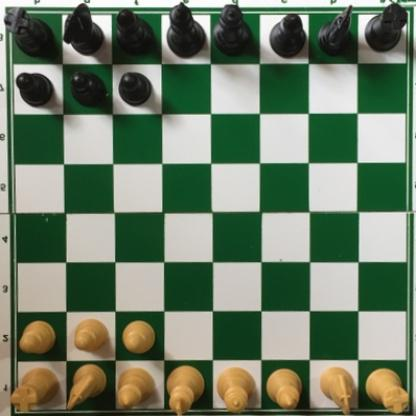black-bishop: (115, 8, 155, 57), (270, 13, 309, 57)
black-king: (165, 1, 207, 57)
black-knight: (61, 1, 103, 57), (317, 3, 359, 56)
black-pawn: (69, 67, 107, 108), (15, 69, 57, 106), (117, 68, 154, 106)
black-queen: (212, 3, 251, 60)
black-rook: (4, 2, 55, 55), (364, 2, 411, 52)
white-bishop: (264, 365, 302, 416), (115, 364, 156, 409)
white-king: (167, 364, 205, 416)
white-knight: (67, 361, 109, 411), (320, 367, 360, 416)
white-pawn: (19, 318, 57, 351), (74, 317, 110, 351), (124, 317, 157, 352)
white-queen: (215, 364, 258, 416)
white-rook: (364, 366, 415, 416), (12, 364, 61, 413)
